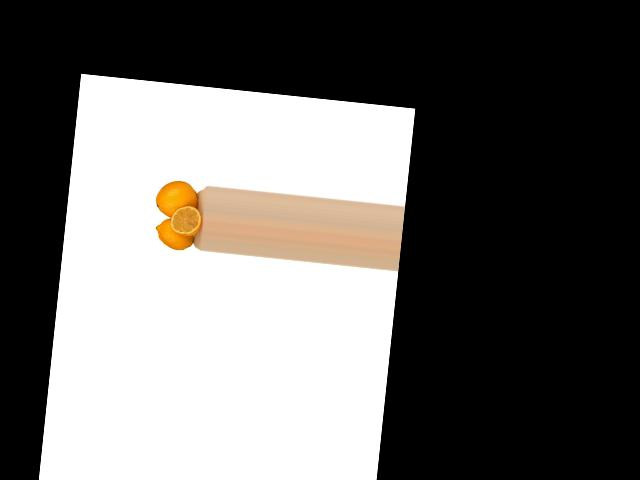lemon: (153, 216, 199, 254)
